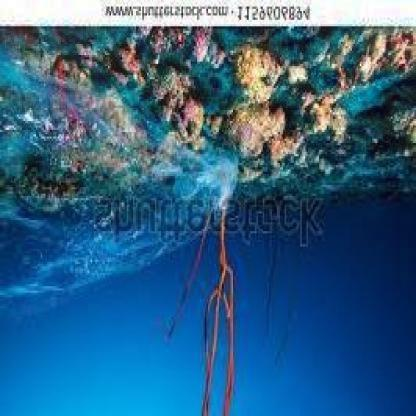pbag: (2, 40, 247, 328)
